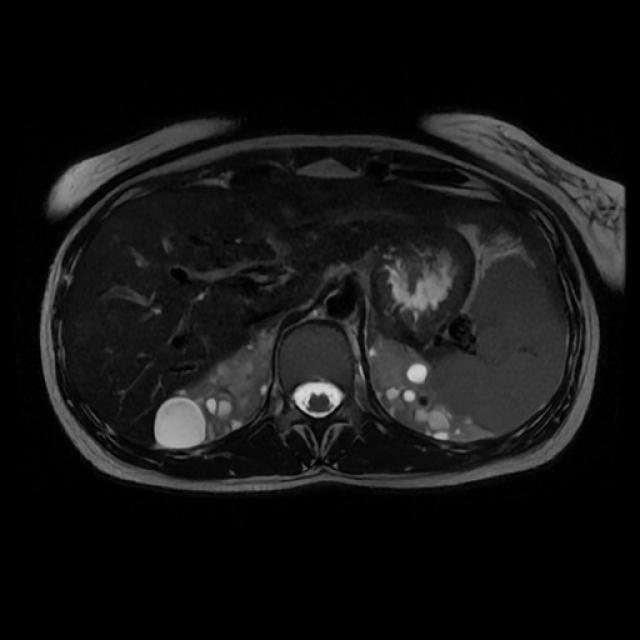sag: (152, 337, 276, 448)
sol: (368, 335, 479, 444)
